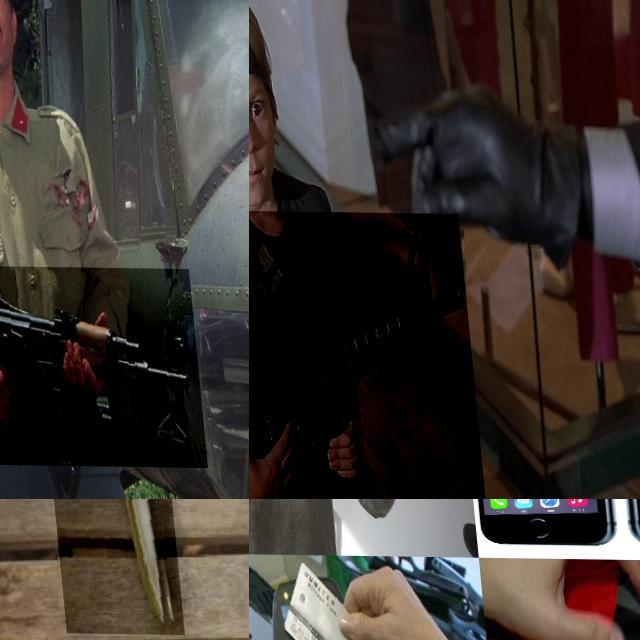-: (25, 499, 174, 640)
gun-knife-thesis - v11 Yolov5 augmented: (249, 208, 478, 499), (0, 264, 196, 466)
